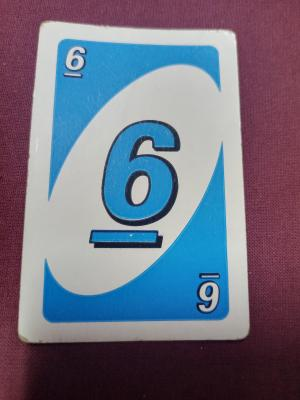blue: (43, 36, 233, 328)
num_6: (194, 268, 224, 320), (62, 39, 88, 83)
